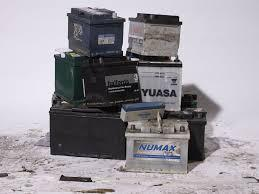battery: (49, 47, 138, 108), (56, 3, 129, 59), (121, 8, 182, 62)
